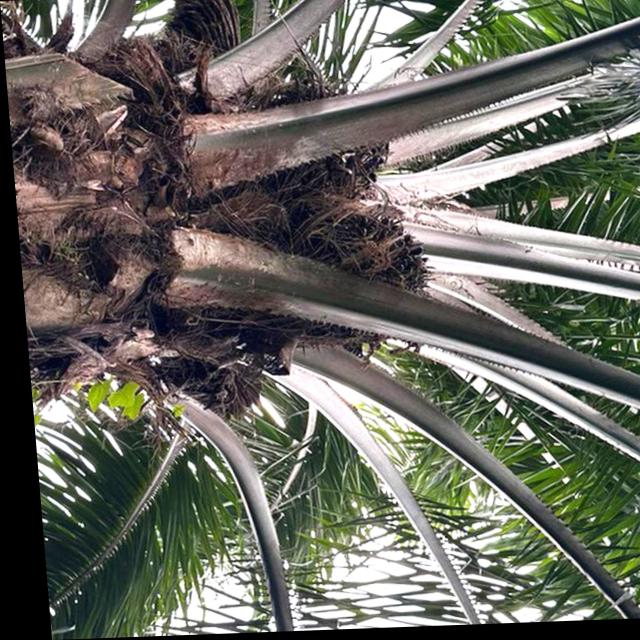unripe: (243, 192, 441, 364), (216, 67, 392, 203)
